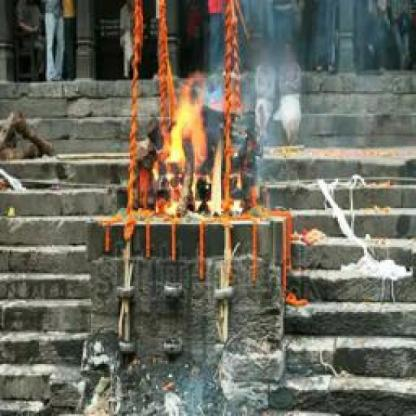fire: (162, 77, 226, 220)
